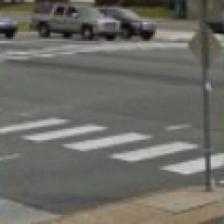crosswalk: (0, 110, 224, 188)
